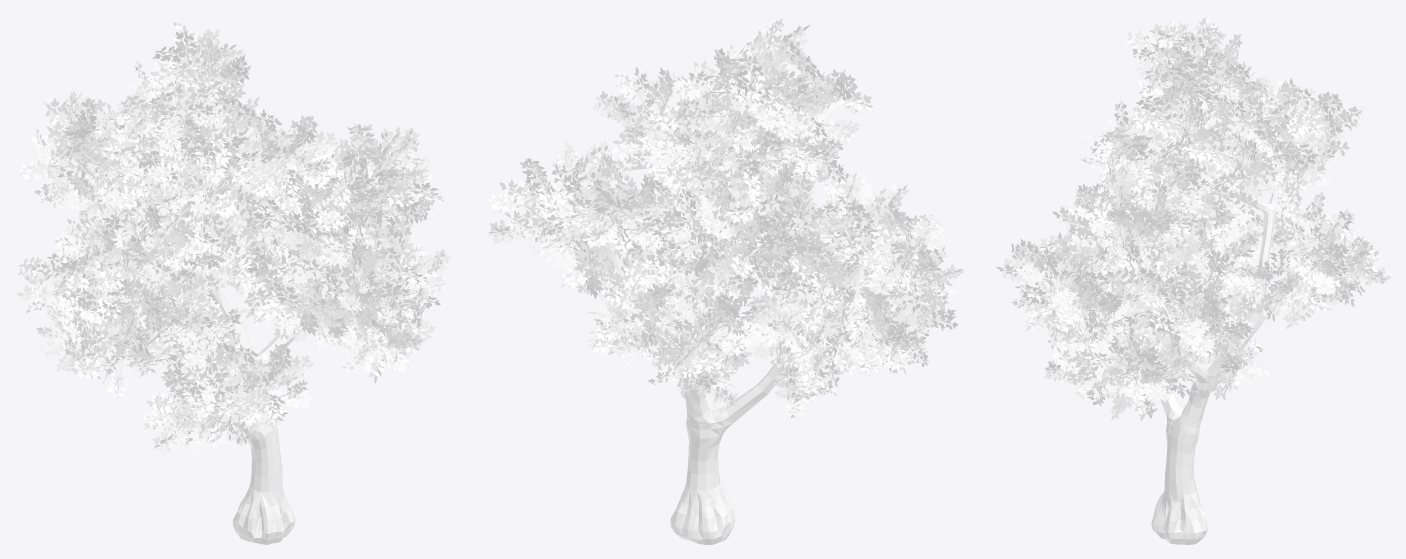
The model's file is realistic-tree.glb.
3 renders of one model, left to right at view 1: azimuth 30°, elevation 25°; view 2: azimuth 150°, elevation 25°; view 3: azimuth 270°, elevation 25°, orthographic. The views are drawn at different scales.
Parts seen in each view (by area): view 1: crown merged_normal leaves_0, trunk_low_trunk_0, br_low_trunk_0; view 2: crown merged_normal leaves_0, trunk_low_trunk_0, br_low_trunk_0; view 3: crown merged_normal leaves_0, trunk_low_trunk_0, br_low_trunk_0.
Part boxes in pixels (bbox=[...]): crown merged_normal leaves_0: bbox=[16, 20, 451, 456]; trunk_low_trunk_0: bbox=[91, 108, 382, 544]; br_low_trunk_0: bbox=[47, 64, 414, 432]; crown merged_normal leaves_0: bbox=[487, 18, 964, 420]; trunk_low_trunk_0: bbox=[590, 97, 879, 544]; br_low_trunk_0: bbox=[521, 54, 932, 400]; crown merged_normal leaves_0: bbox=[996, 17, 1391, 421]; trunk_low_trunk_0: bbox=[1068, 89, 1309, 544]; br_low_trunk_0: bbox=[1031, 50, 1349, 383].
Bounding box in the file's own units: 3.75 × 4.2 × 3.07.
2 materials, 1 textured.
